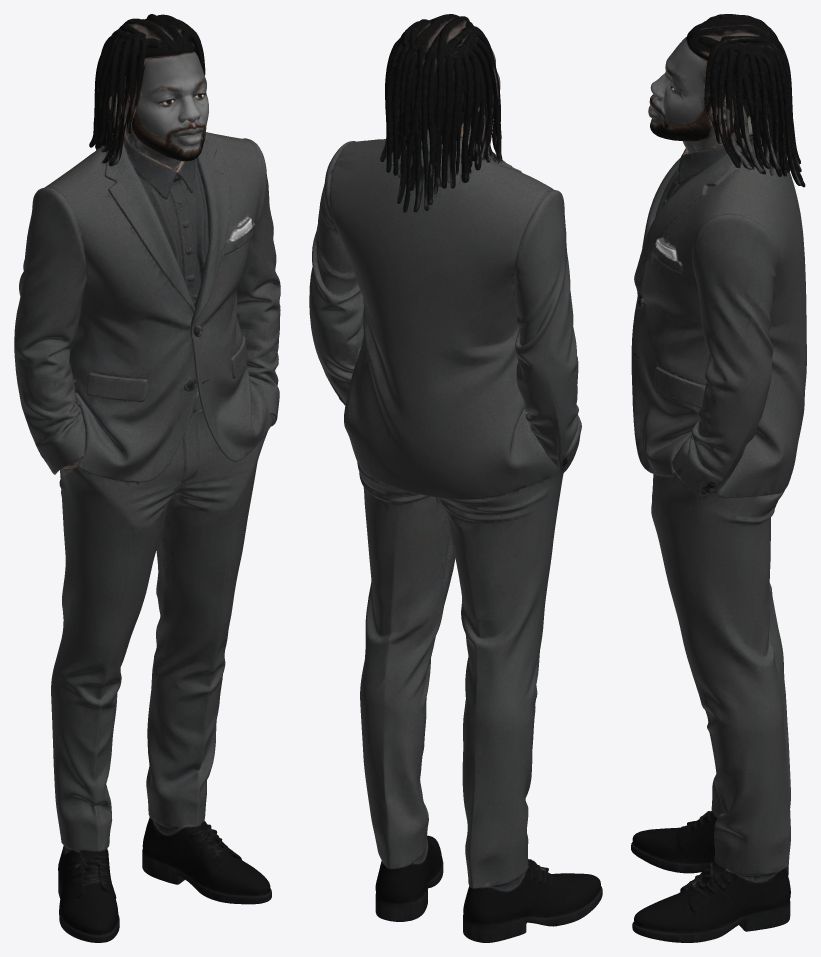
File: marquis-v18.glb
3 views of the same model, side by side, from view 1: azimuth 30°, elevation 25°; view 2: azimuth 150°, elevation 25°; view 3: azimuth 270°, elevation 25° (orthographic). The views are drawn at different scales.
Size of the model in its own units: 0.589 by 1.9 by 0.3426.
Materials: 1 (1 with a texture image).
